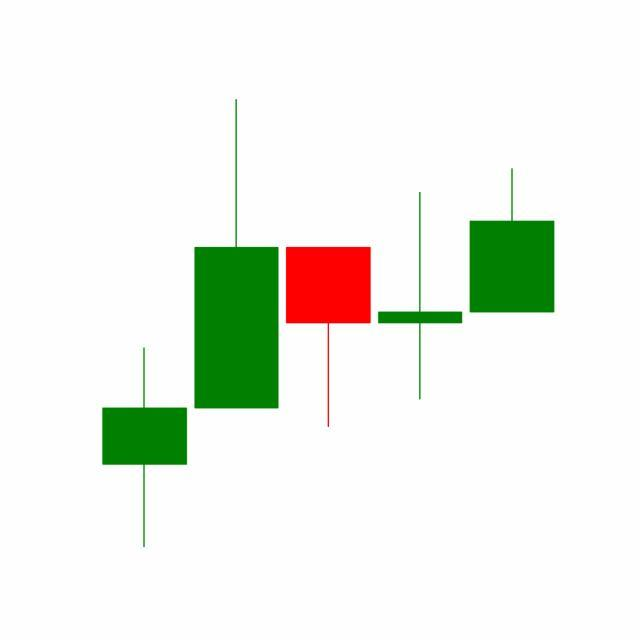Spinning Top: (374, 190, 468, 403)
